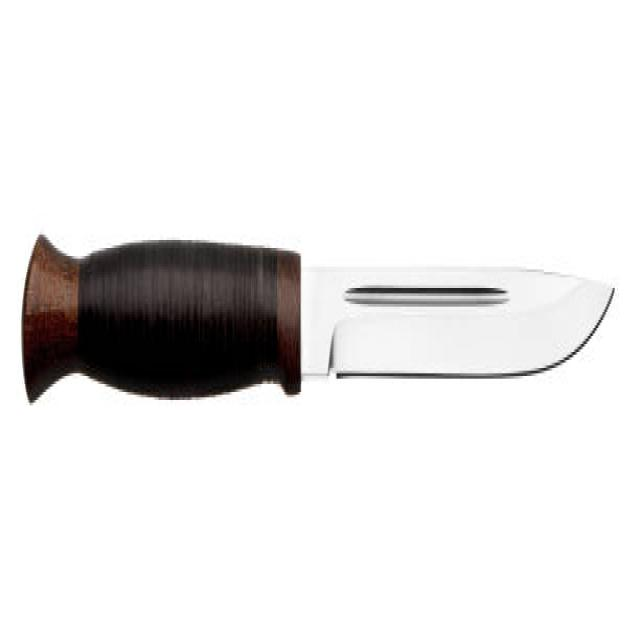knife: (18, 230, 623, 418)
